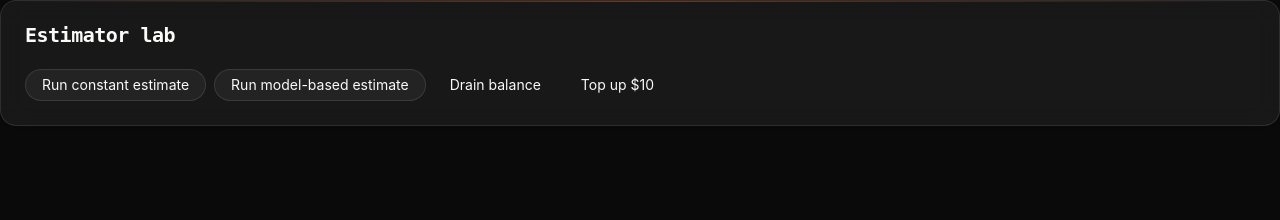
Test: LabRunner › renders the error envelope when the constant estimate is rejected
Click the button "Run constant estimate" at (116, 85), box [25, 69, 206, 101]
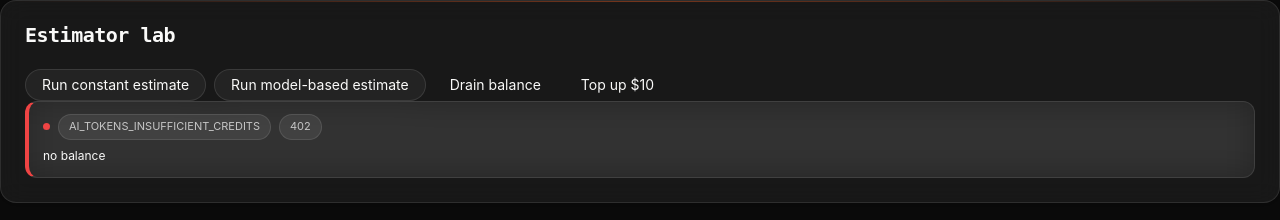
Result: the message shows "no balance" at [43, 148, 106, 163]
